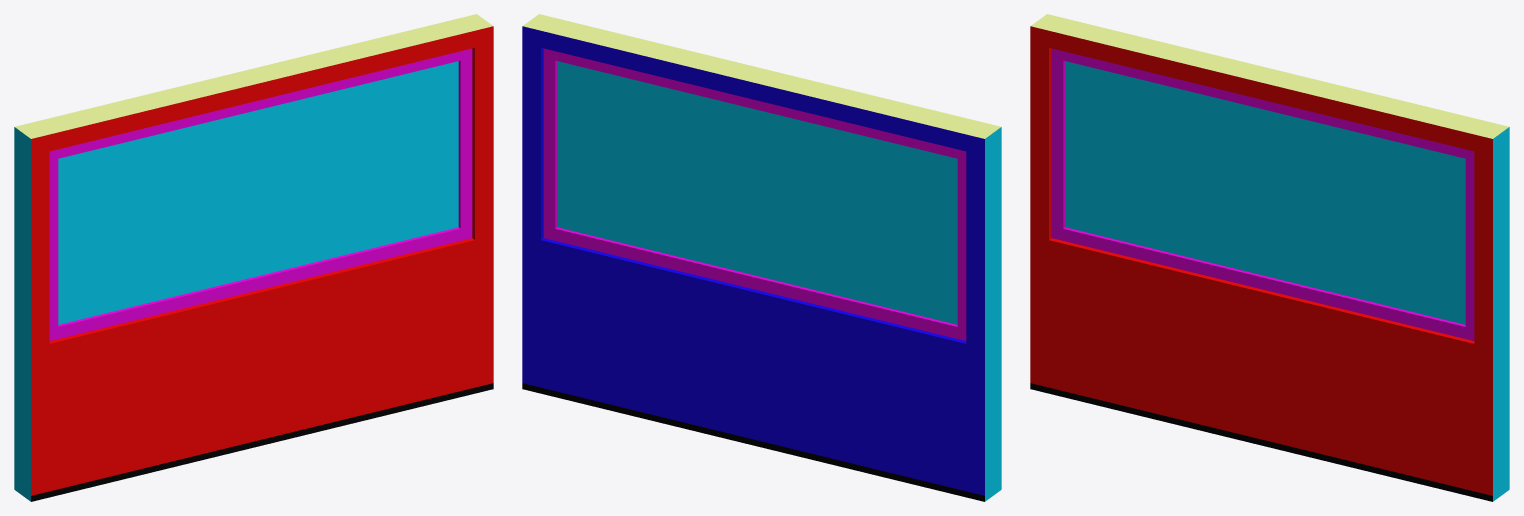
Rendered from Wall_Kitchen.FBX.
The picture shows the model from 3 angles, left to right: view 1: azimuth 30°, elevation 25°; view 2: azimuth 150°, elevation 25°; view 3: azimuth 330°, elevation 25°; orthographic projection.
Visible parts, largest first — view 1: WalKitchen; view 2: WalKitchen; view 3: WalKitchen.
Boxes of the visible parts, x1=… form: WalKitchen: x1=14, y1=14, x2=493, y2=501; WalKitchen: x1=522, y1=14, x2=1001, y2=501; WalKitchen: x1=1030, y1=14, x2=1509, y2=501.
Bounding box in the file's own units: 4 × 3 × 0.25.
